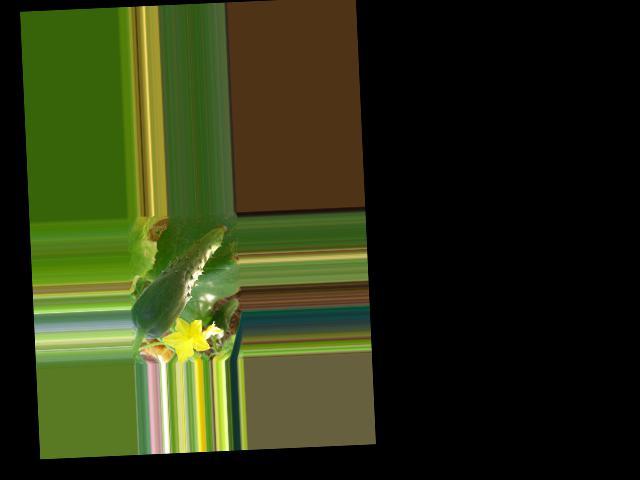cucumber: (127, 225, 232, 339)
